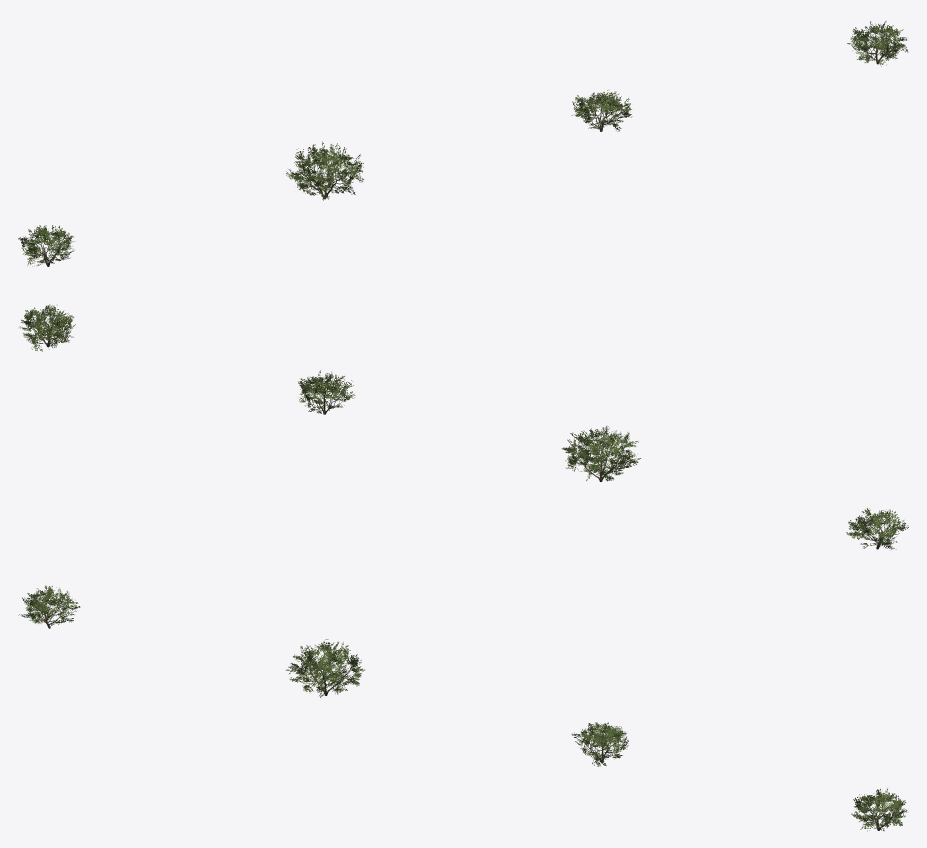
Rendered from bush.gltf.
3 views of the same model, one above another, from view 1: azimuth 30°, elevation 25°; view 2: azimuth 150°, elevation 25°; view 3: azimuth 330°, elevation 25° (orthographic).
Parts seen in each view (by area): view 1: Bush2_LOD0, Bush4_LOD0, Bush3_LOD0, Bush1_LOD0; view 2: Bush2_LOD0, Bush4_LOD0, Bush3_LOD0, Bush1_LOD0; view 3: Bush2_LOD0, Bush4_LOD0, Bush1_LOD0, Bush3_LOD0.
Part boxes in pixels (x1,y1,x2,y2): Bush2_LOD0: (286, 141, 363, 200); Bush4_LOD0: (847, 21, 908, 66); Bush3_LOD0: (571, 90, 632, 131); Bush1_LOD0: (18, 225, 75, 266); Bush2_LOD0: (561, 426, 640, 481); Bush4_LOD0: (19, 304, 75, 351); Bush3_LOD0: (298, 370, 355, 414); Bush1_LOD0: (846, 508, 908, 549); Bush2_LOD0: (286, 639, 364, 697); Bush4_LOD0: (851, 788, 907, 831); Bush1_LOD0: (18, 585, 80, 628); Bush3_LOD0: (571, 722, 628, 766).
Size of what is drawn, in the model's own units: 48.08 by 2.96 by 3.98.
Materials: 2 (2 with a texture image).
